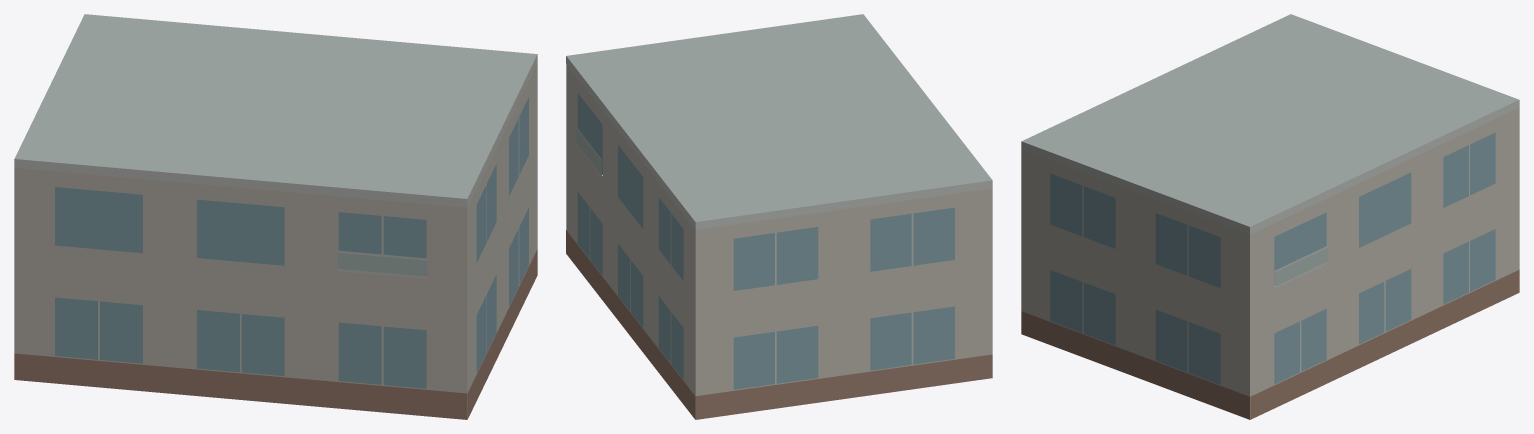
Rendered from survey-upis-32711879.glb.
The picture shows the model from 3 angles, left to right: view 1: azimuth 30°, elevation 25°; view 2: azimuth 150°, elevation 25°; view 3: azimuth 270°, elevation 25°; orthographic projection. The views are drawn at different scales.
Visible parts, largest first — view 1: survey-upis-32711879.tmp; view 2: survey-upis-32711879.tmp; view 3: survey-upis-32711879.tmp.
Boxes of the visible parts, bbox=[...] form: survey-upis-32711879.tmp: bbox=[14, 14, 537, 419]; survey-upis-32711879.tmp: bbox=[566, 14, 992, 419]; survey-upis-32711879.tmp: bbox=[1021, 14, 1519, 419].
Bounding box in the file's own units: 14.45 × 6.1 × 14.28.
